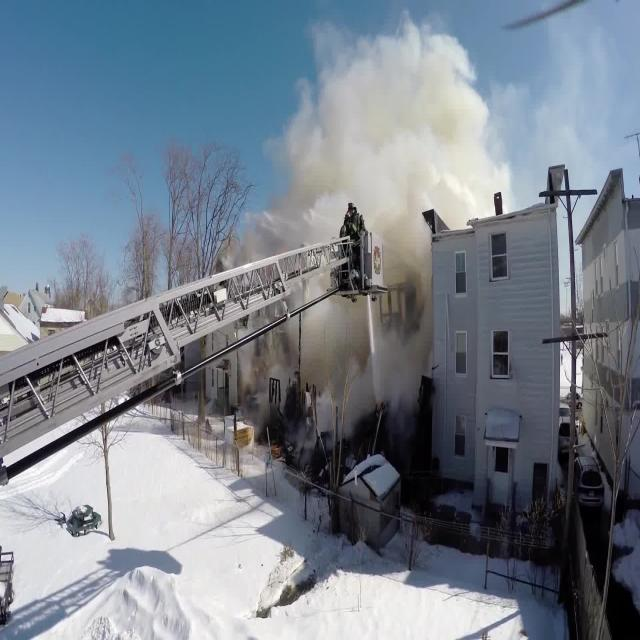smoke: (300, 82, 484, 223), (301, 309, 420, 396)
